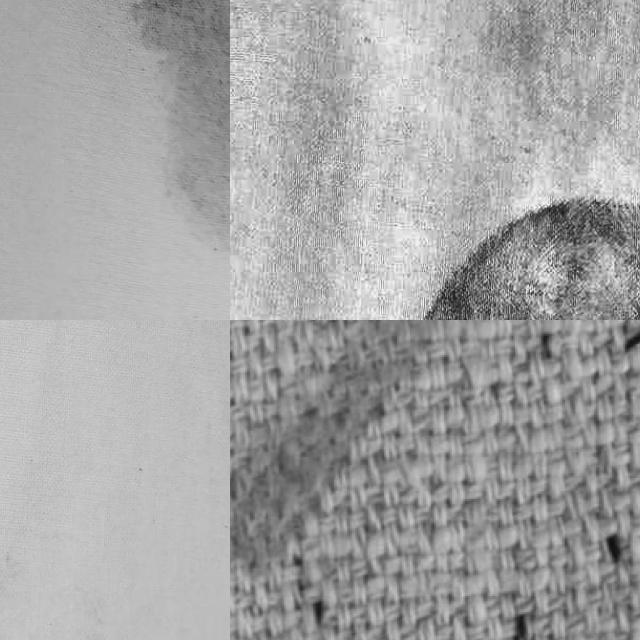Thread_other: (361, 155, 640, 320), (85, 0, 230, 278)
